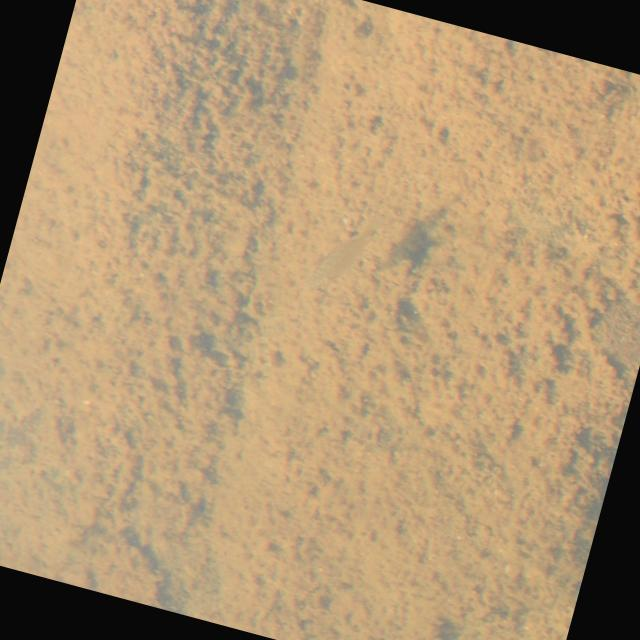Gunes Levregi: (303, 202, 391, 306)
